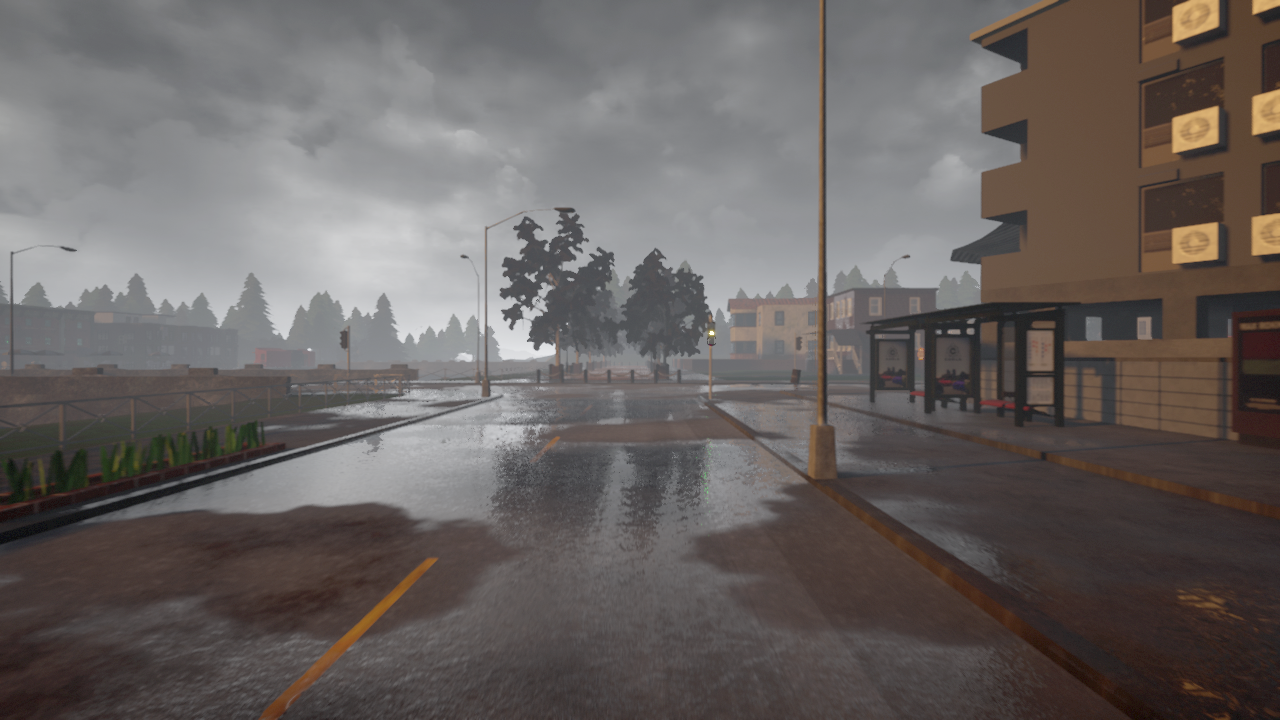yellow: (706, 321, 716, 346)
